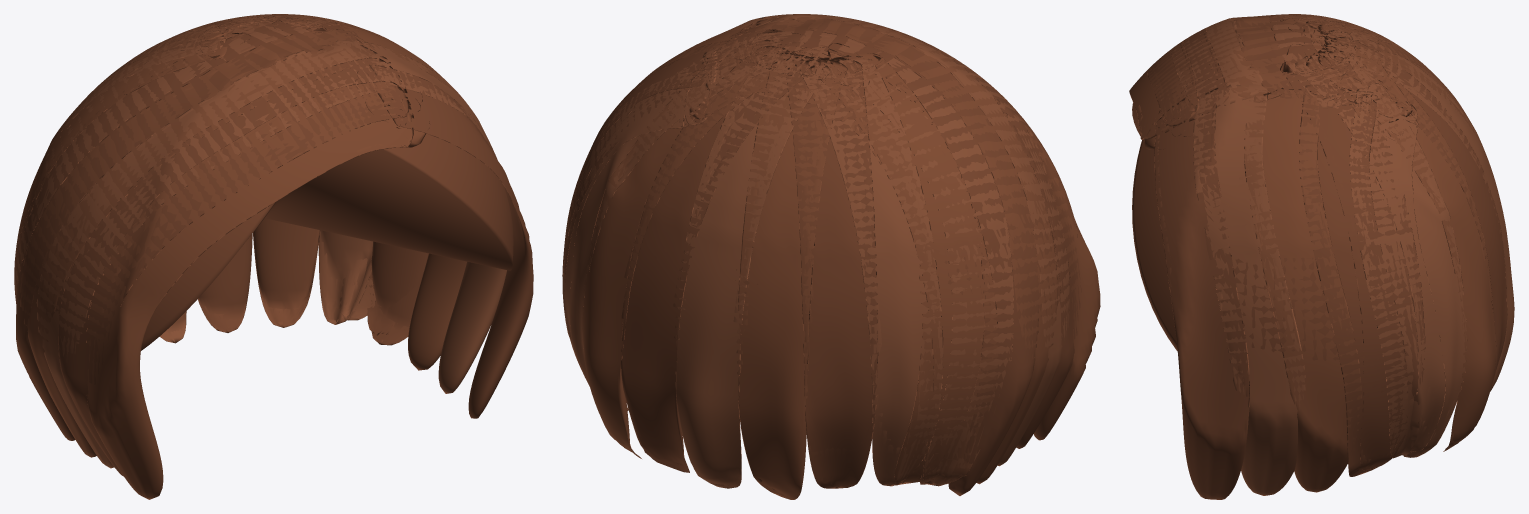
File: Feminine-bob-covered-hair236.glb
The picture shows the model from 3 angles, left to right: view 1: azimuth 30°, elevation 25°; view 2: azimuth 150°, elevation 25°; view 3: azimuth 270°, elevation 25°; orthographic projection. The views are drawn at different scales.
Visible parts, largest first — view 1: 226 hair / Hair / sculpted 0.002, 226 hair / Hair / sculpted 1.003, 226 hair / Hair / sculpted 2.002, 226 hair / Hair / sculpted 1.004; view 2: 226 hair / Hair / sculpted 0.002, 226 hair / Hair / sculpted 2.002, 226 hair / Hair / sculpted 1.003, 226 hair / Hair / sculpted 1.004; view 3: 226 hair / Hair / sculpted 1.003, 226 hair / Hair / sculpted 2.002, 226 hair / Hair / sculpted 0.002, 226 hair / Hair / sculpted 1.004.
Boxes of the visible parts, x1,y1,x2,y2 form: 226 hair / Hair / sculpted 0.002: (14, 14, 469, 499); 226 hair / Hair / sculpted 1.003: (14, 14, 533, 476); 226 hair / Hair / sculpted 2.002: (14, 14, 506, 468); 226 hair / Hair / sculpted 1.004: (24, 133, 513, 350); 226 hair / Hair / sculpted 0.002: (582, 14, 1100, 499); 226 hair / Hair / sculpted 2.002: (562, 14, 1069, 488); 226 hair / Hair / sculpted 1.003: (562, 14, 1081, 495); 226 hair / Hair / sculpted 1.004: (578, 155, 1068, 319); 226 hair / Hair / sculpted 1.003: (1147, 14, 1507, 499); 226 hair / Hair / sculpted 2.002: (1170, 14, 1514, 495); 226 hair / Hair / sculpted 0.002: (1129, 14, 1496, 492); 226 hair / Hair / sculpted 1.004: (1132, 103, 1494, 390).
Size of the model in its own units: 0.9591 by 0.8015 by 0.7287.
